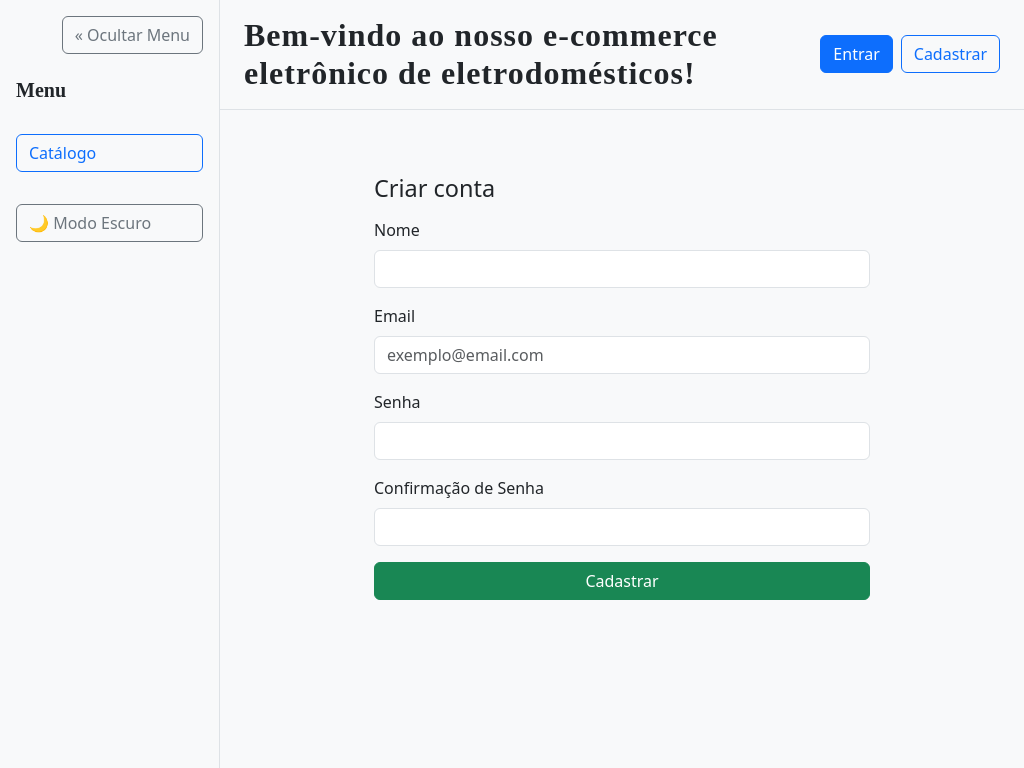
Test: Cadastro de Usuário › deve mostrar erro quando senhas não coincidem
The width and height of the screenshot is (1024, 768).
Type "Edivaldo José dos Santos" into the field named "nome" at [622, 269], box x1=374 y1=250 x2=870 y2=288
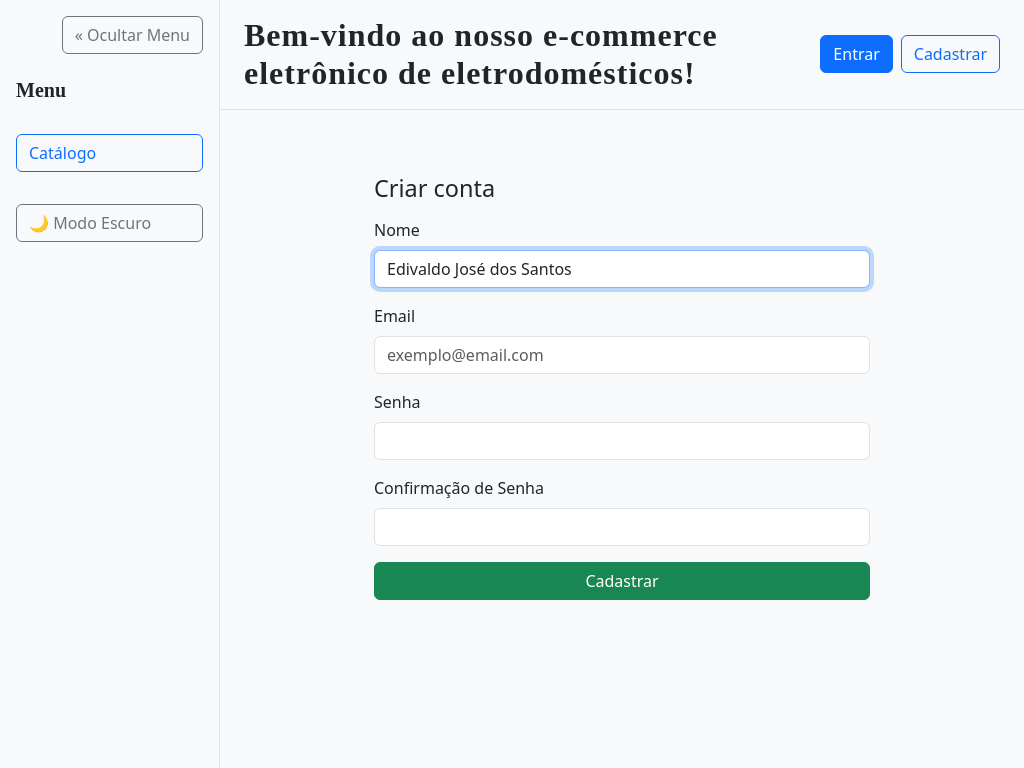
Type "edivaldo@email.com" into the field named "email" at [622, 355], box x1=374 y1=336 x2=870 y2=374
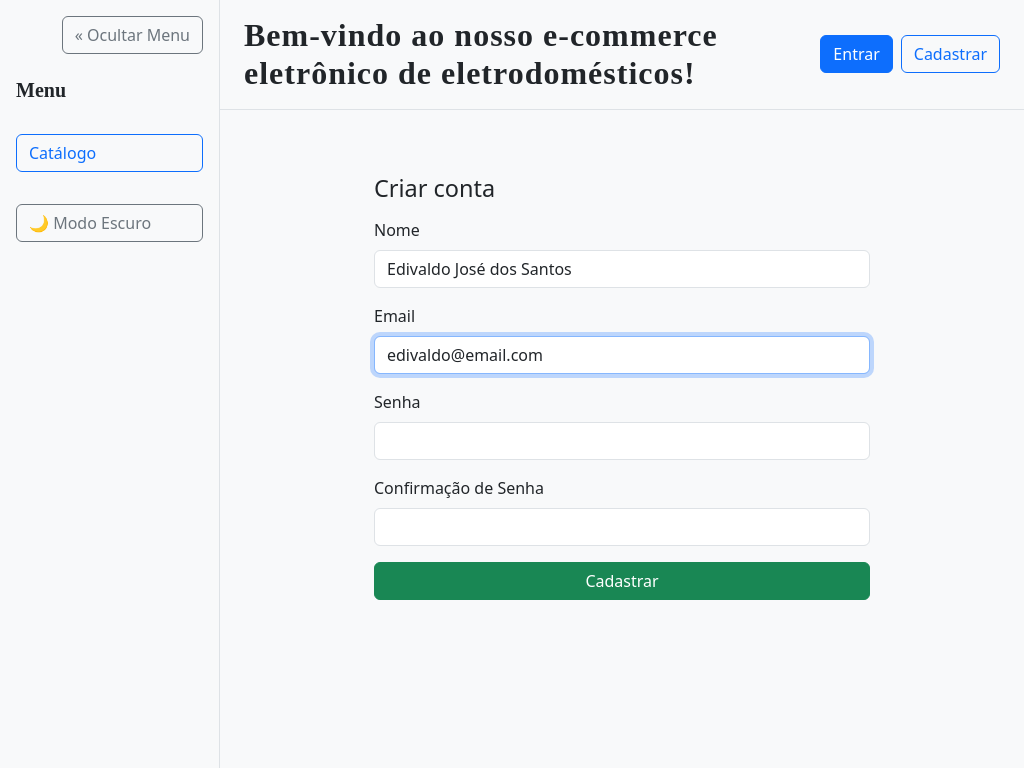
Type "senha123" into the 1st password field named "senha" at [622, 441], box x1=374 y1=422 x2=870 y2=460
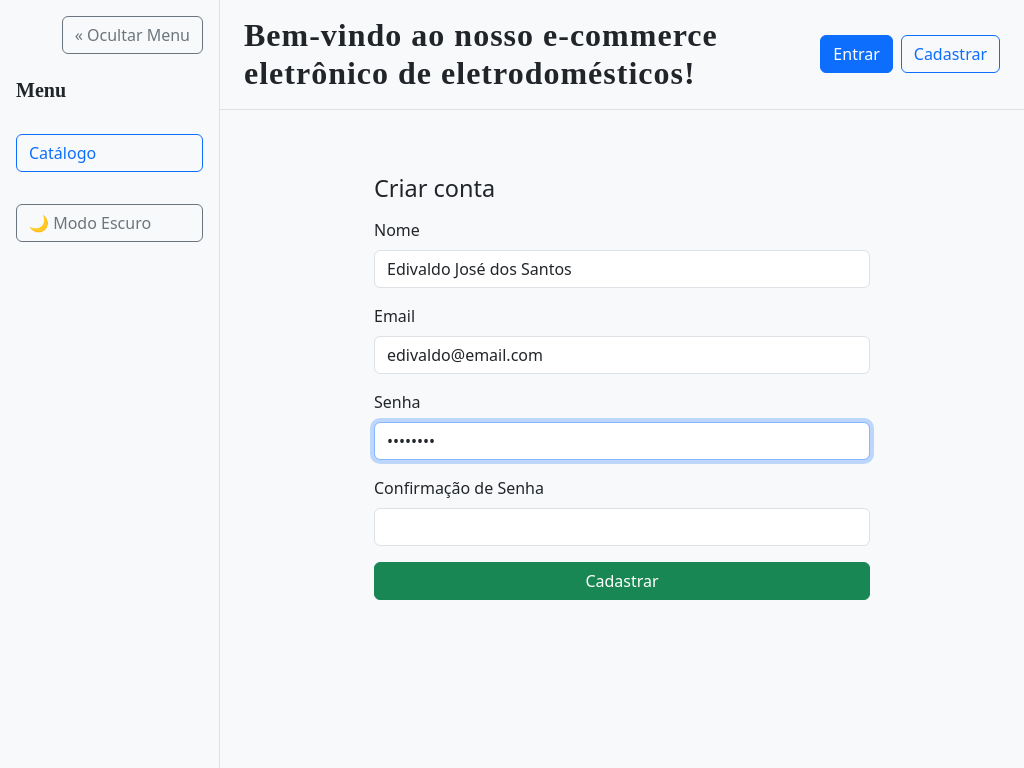
Type "senha456" into the password field named "confirmacaoSenha" below "Confirmação de Senha" at [622, 527], box x1=374 y1=508 x2=870 y2=546
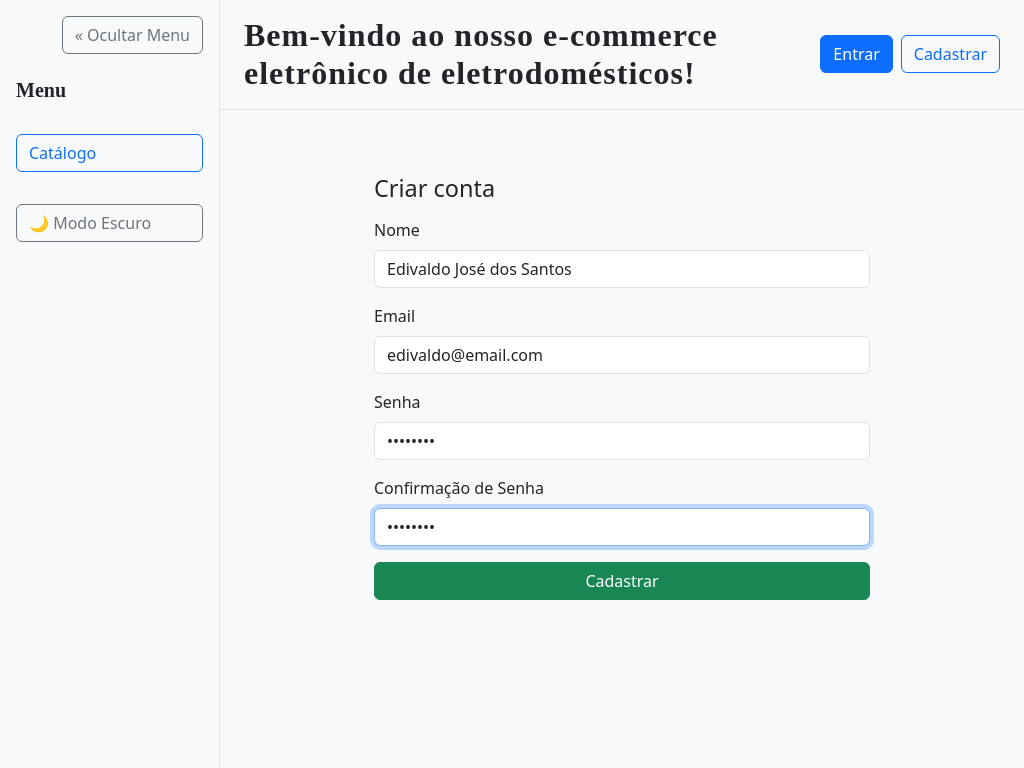
Click the button named "submit" at [622, 581], box x1=374 y1=562 x2=870 y2=600
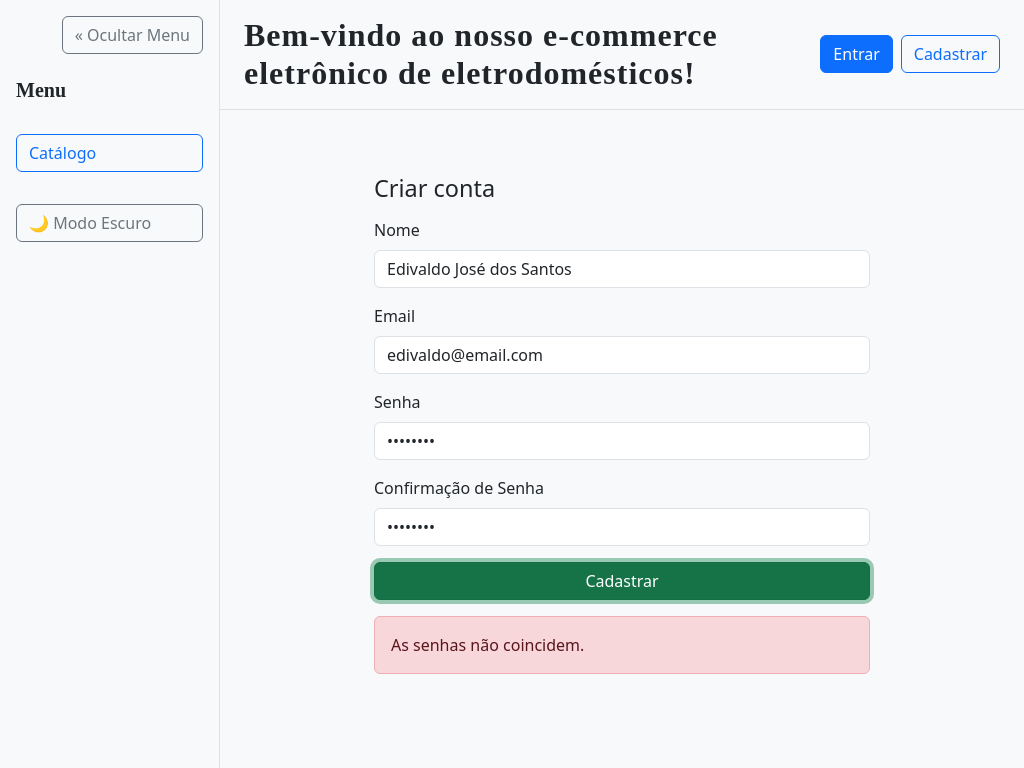
Check: the text "senhas não coincidem" is shown, box x1=391 y1=634 x2=584 y2=656
